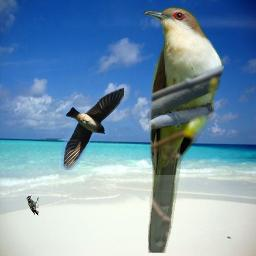Cuckoo: (142, 6, 226, 253)
Swallow: (61, 86, 124, 170)
Woodpecker: (26, 195, 39, 216)
